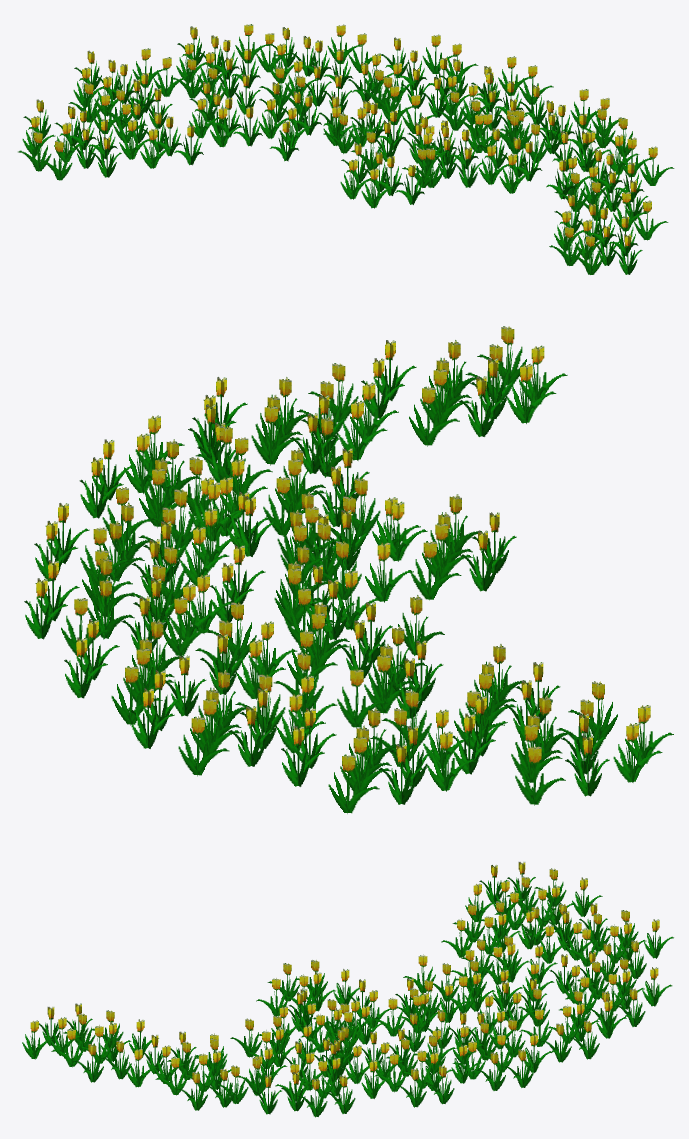
Rendered from HTOWN01_TULIPYELLOW01.fbx.
The picture shows the model from 3 angles, top to bottom: view 1: azimuth 30°, elevation 25°; view 2: azimuth 150°, elevation 25°; view 3: azimuth 270°, elevation 25°; orthographic projection. The views are drawn at different scales.
Parts seen in each view (by area): view 1: HTOWN01_TULIPYELLOW01; view 2: HTOWN01_TULIPYELLOW01; view 3: HTOWN01_TULIPYELLOW01.
Boxes of the visible parts, box(x1,y1,x2,y2) form: HTOWN01_TULIPYELLOW01: box(18, 24, 674, 274); HTOWN01_TULIPYELLOW01: box(24, 326, 673, 813); HTOWN01_TULIPYELLOW01: box(22, 862, 673, 1117).
Bounding box in the file's own units: 64135 × 5000 × 77619.
Materials: 1 (1 with a texture image).
